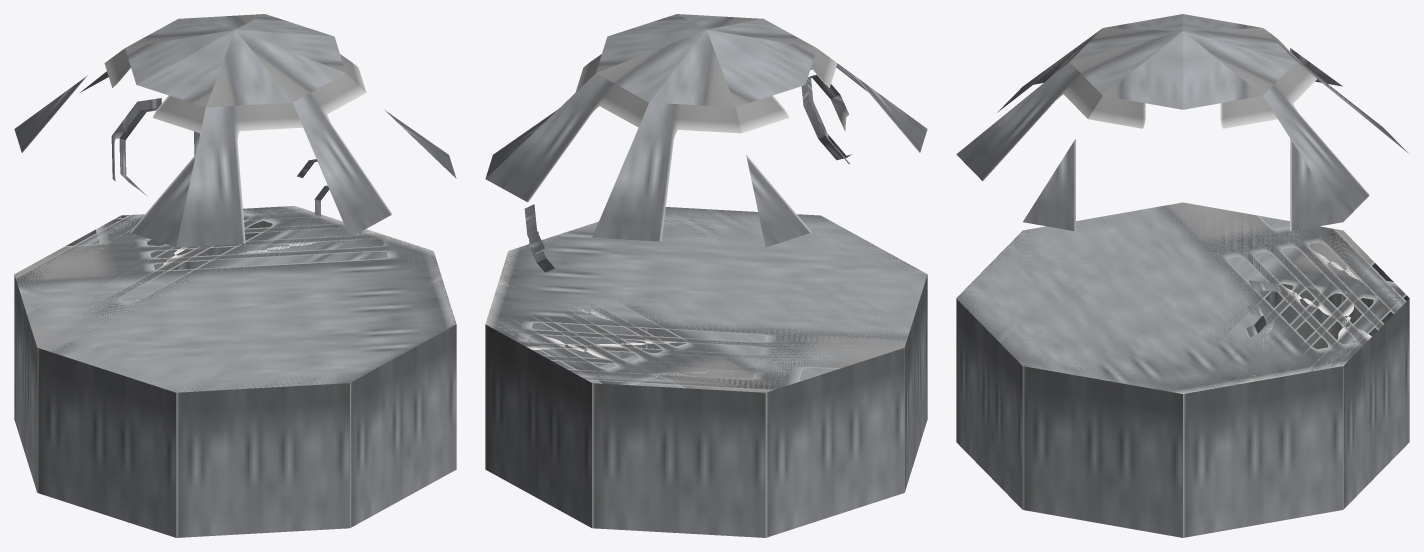
File: observatory.obj
3 renders of one model, left to right at view 1: azimuth 30°, elevation 25°; view 2: azimuth 150°, elevation 25°; view 3: azimuth 270°, elevation 25°, orthographic.
Parts seen in each view (by area): view 1: Base, CasingXPlus, CasingXMinus, Scope; view 2: Base, CasingXMinus, CasingXPlus, Scope; view 3: Base, CasingXMinus, CasingXPlus, Scope.
Boxes of the visible parts, box(x1,y1,x2,y2) form: Base: box(14, 206, 456, 537); CasingXPlus: box(38, 29, 456, 392); CasingXMinus: box(14, 14, 430, 346); Scope: box(111, 98, 329, 222); Base: box(485, 207, 927, 537); CasingXMinus: box(485, 29, 901, 392); CasingXPlus: box(511, 14, 927, 346); Scope: box(524, 74, 851, 272); Base: box(956, 202, 1409, 537); CasingXMinus: box(1183, 14, 1408, 393); CasingXPlus: box(956, 14, 1182, 393); Scope: box(1245, 280, 1284, 337).
Bounding box in the file's own units: 5 × 5 × 5.
